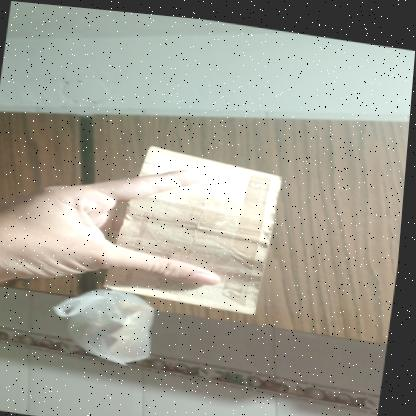vef_back: (106, 138, 286, 310)
